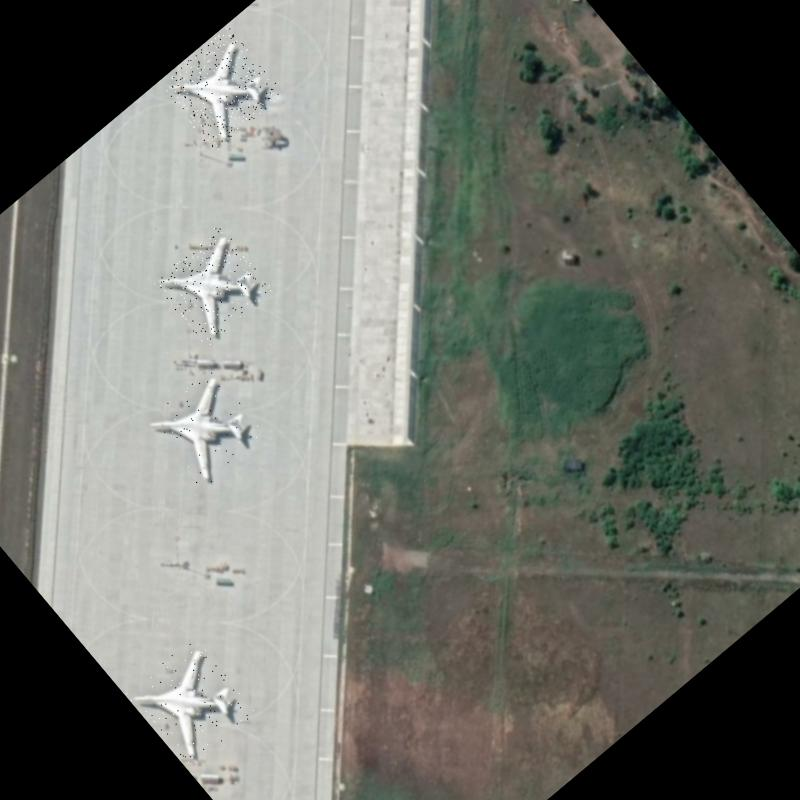A6: (124, 634, 258, 768), (158, 26, 285, 152), (144, 366, 268, 492), (150, 223, 274, 347)
